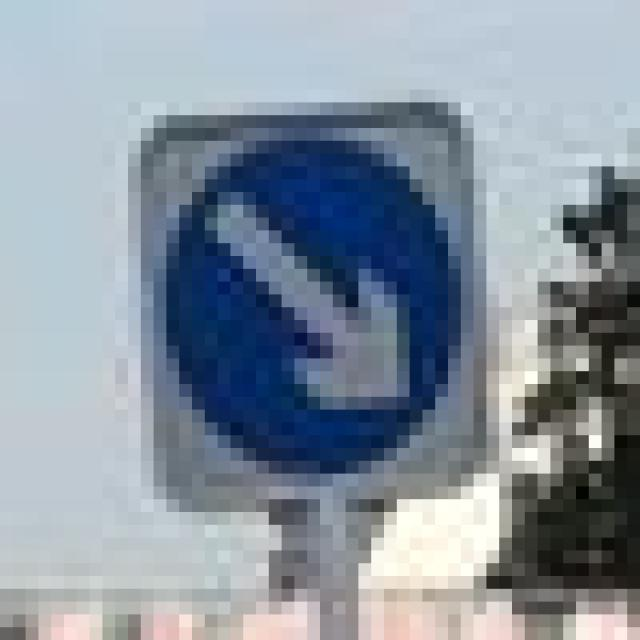compulsory_keep_left: (116, 90, 487, 499)
